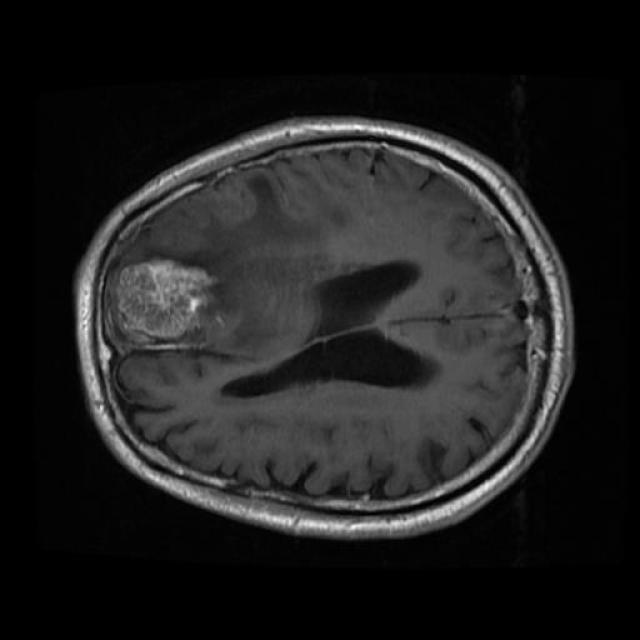Meningioma: (112, 260, 215, 346)
